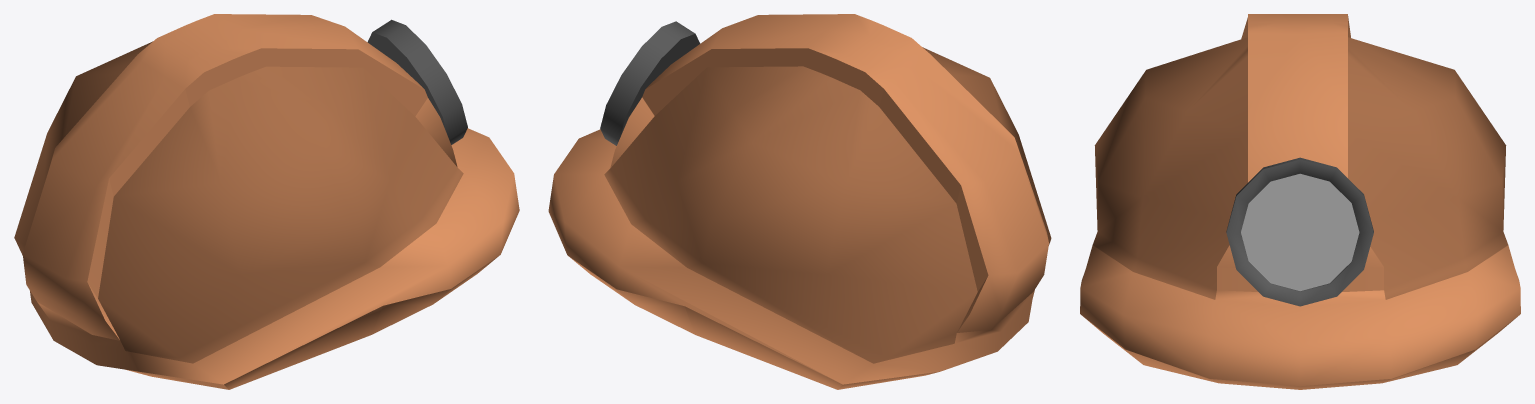
The model's file is HardHat.fbx.
The picture shows the model from 3 angles, left to right: view 1: azimuth 30°, elevation 25°; view 2: azimuth 150°, elevation 25°; view 3: azimuth 270°, elevation 25°; orthographic projection. The views are drawn at different scales.
Visible parts, largest first — view 1: polySurface2; view 2: polySurface2; view 3: polySurface2.
Boxes of the visible parts, box(x1,y1,x2,y2) form: polySurface2: box(14, 14, 519, 389); polySurface2: box(548, 14, 1051, 389); polySurface2: box(1080, 14, 1520, 389).
Bounding box in the file's own units: 2.98 × 1.76 × 2.34.
